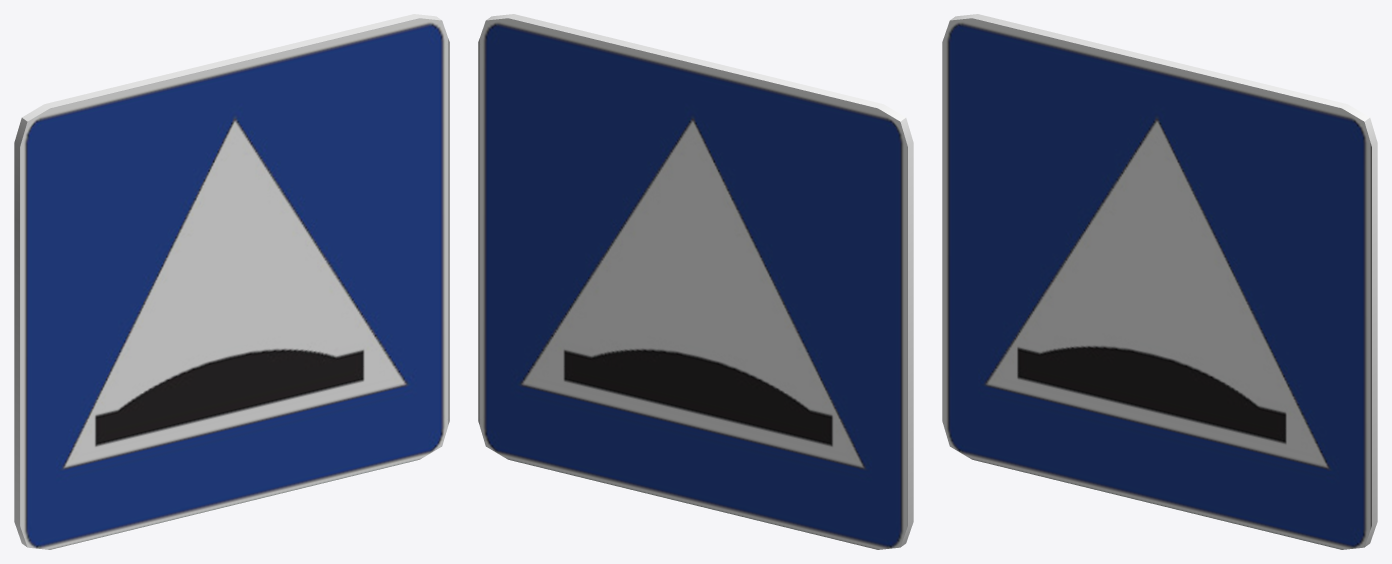
Rendered from mesh_sign_hump.FBX.
3 renders of one model, left to right at view 1: azimuth 30°, elevation 25°; view 2: azimuth 150°, elevation 25°; view 3: azimuth 330°, elevation 25°, orthographic.
Visible parts, largest first — view 1: Object170; view 2: Object170; view 3: Object170.
Boxes of the visible parts, x1,y1,x2,y2 form: Object170: (14, 14, 449, 549); Object170: (478, 14, 913, 549); Object170: (942, 14, 1377, 549).
Size of the model in its own units: 0.8635 by 0.8481 by 0.02.
Materials: 1 (1 with a texture image).
